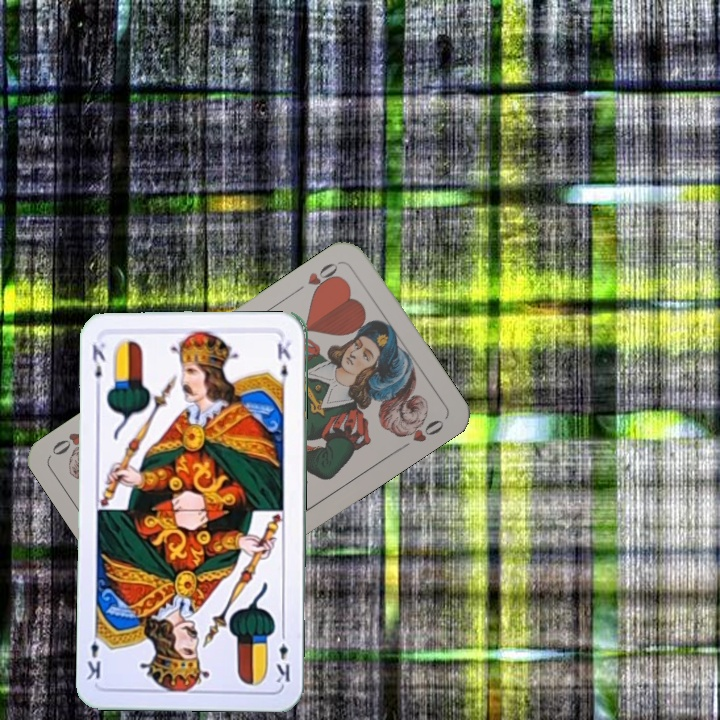EK: (273, 626, 293, 685), (88, 339, 108, 393)
HO: (290, 258, 343, 297)
